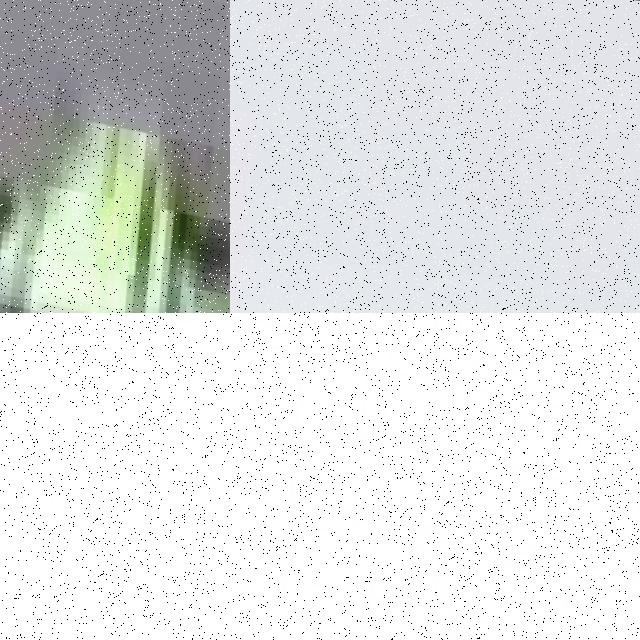0: (0, 0, 230, 313)
drone: (230, 313, 640, 640)
